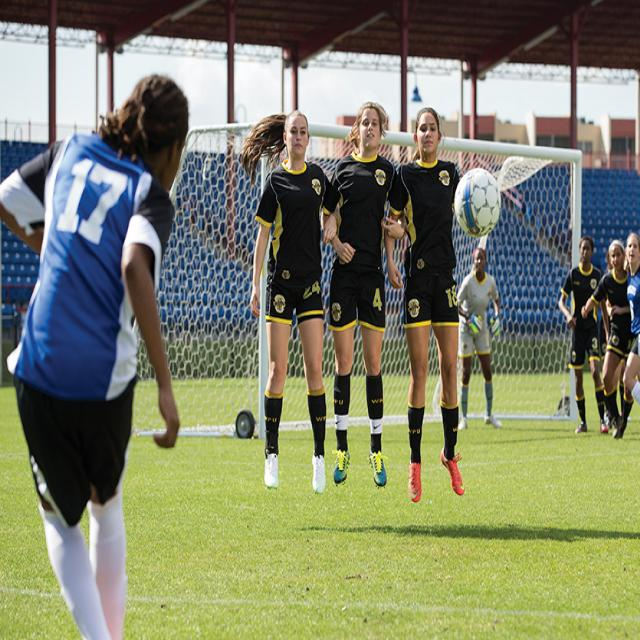free-kick: (237, 96, 492, 505)
